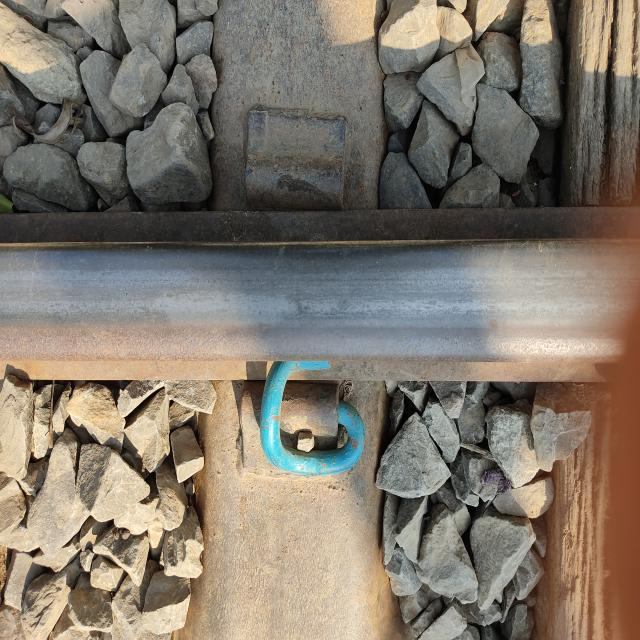defective: (244, 90, 374, 263)
